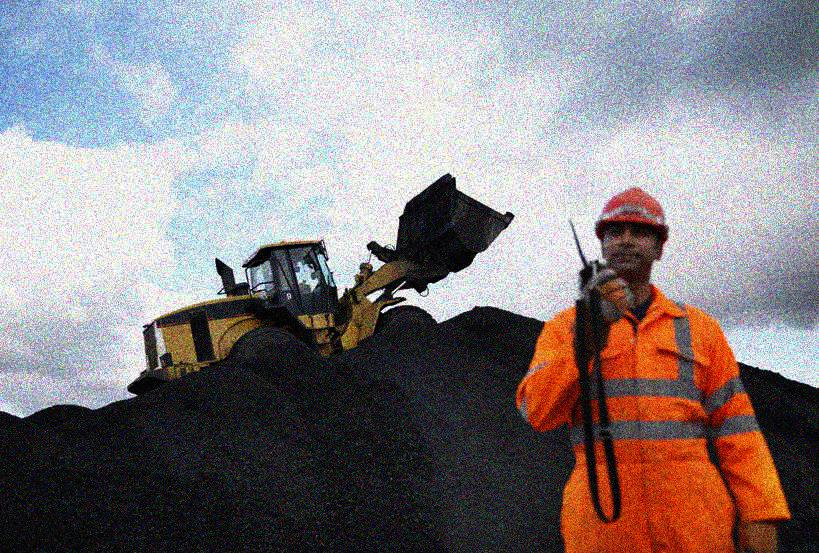helmet: (589, 185, 670, 273)
